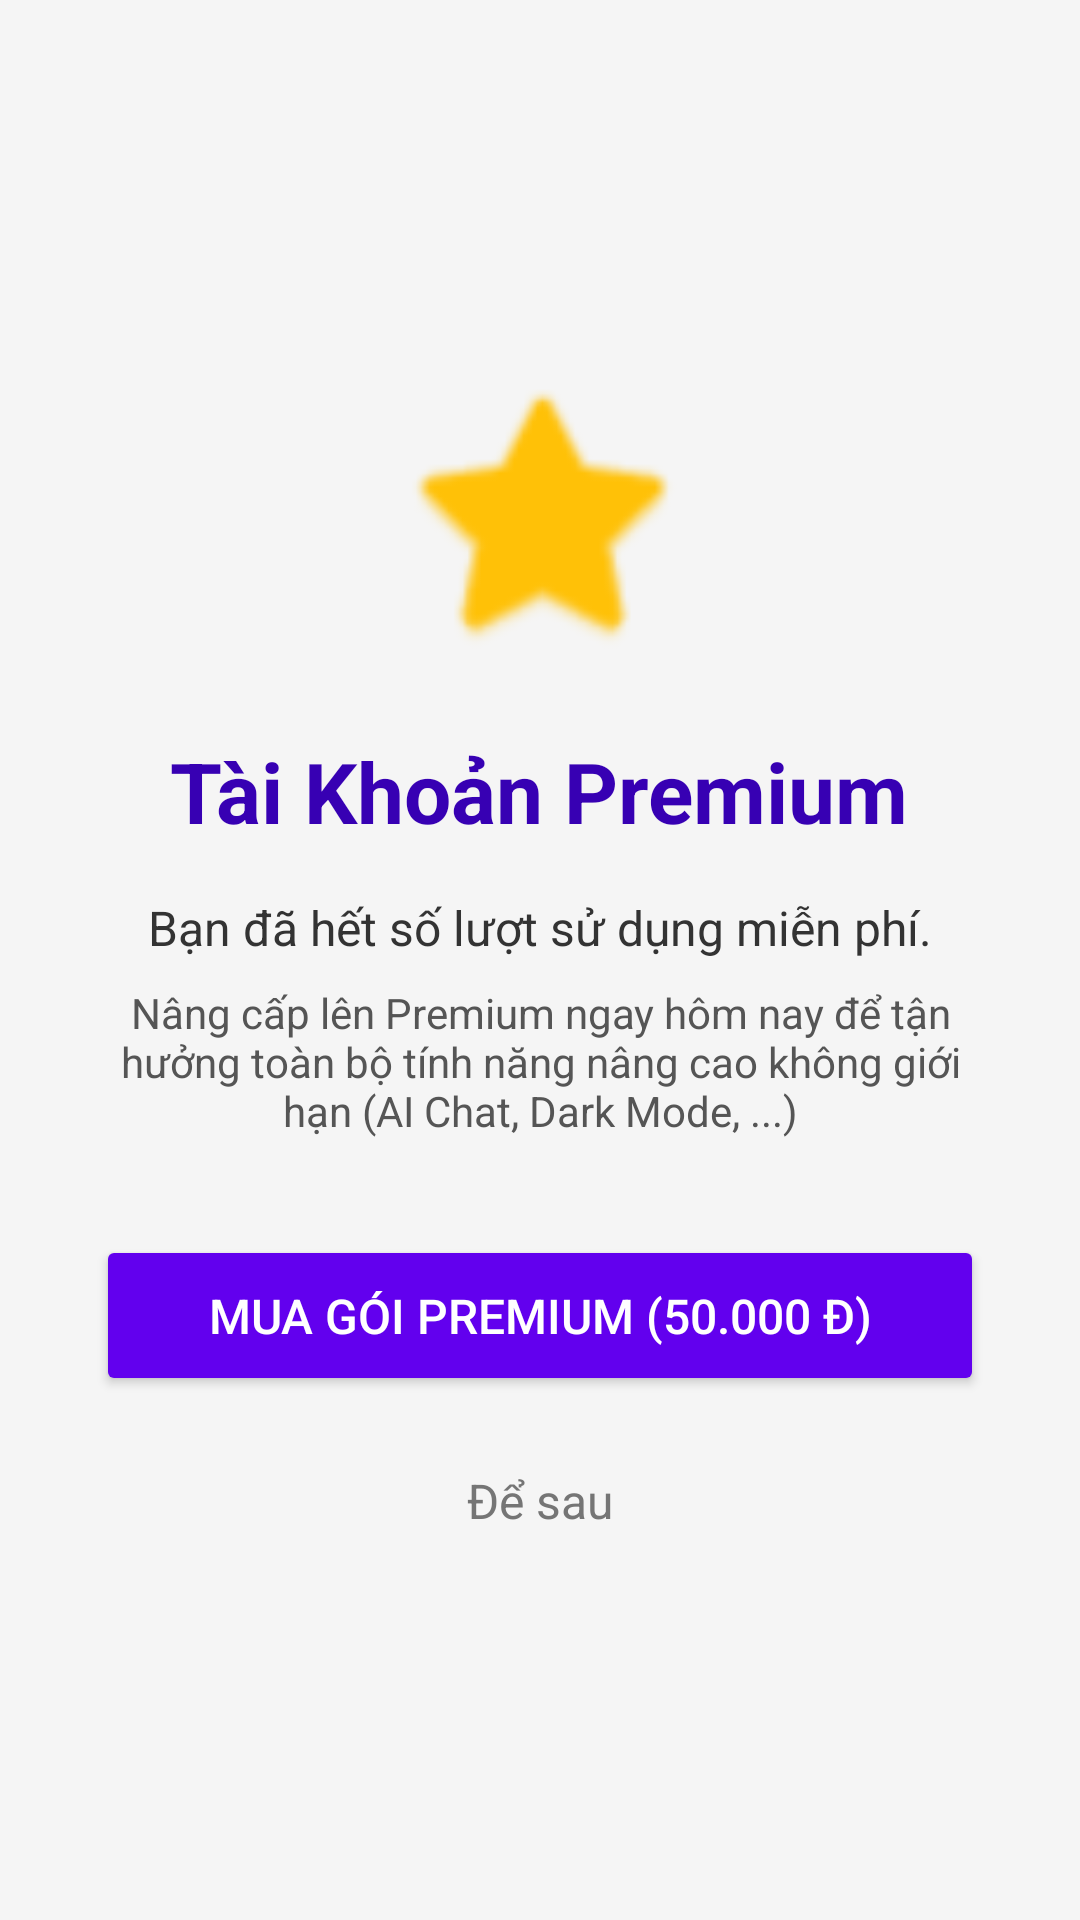

Locate icon controls on the screen. Image size 1080×1920, boxes as (x1, y1, x2, y2).
star on: (417, 393, 668, 637)
